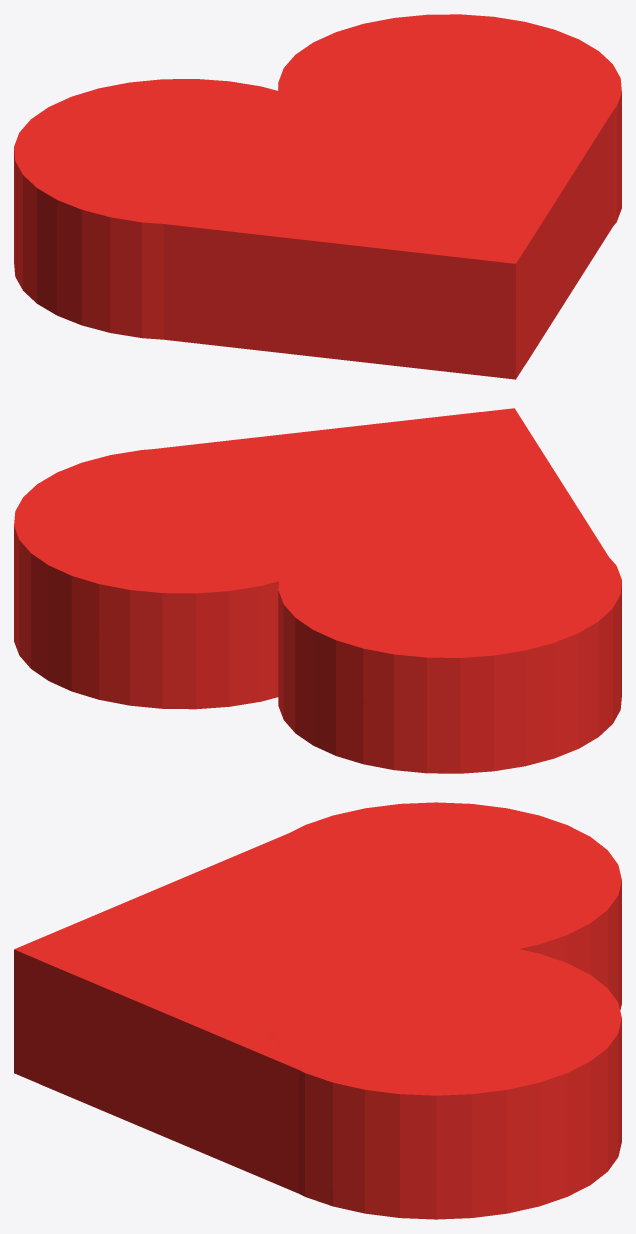
File: heart.fbx
3 views of the same model, one above another, from view 1: azimuth 30°, elevation 25°; view 2: azimuth 150°, elevation 25°; view 3: azimuth 270°, elevation 25° (orthographic). The views are drawn at different scales.
Parts seen in each view (by area): view 1: Cube; view 2: Cube; view 3: Cube.
Part boxes in pixels (x1=…): Cube: x1=14, y1=14, x2=621, y2=379; Cube: x1=14, y1=408, x2=621, y2=773; Cube: x1=14, y1=802, x2=621, y2=1219.
Size of the model in its own units: 325 by 64 by 285.
